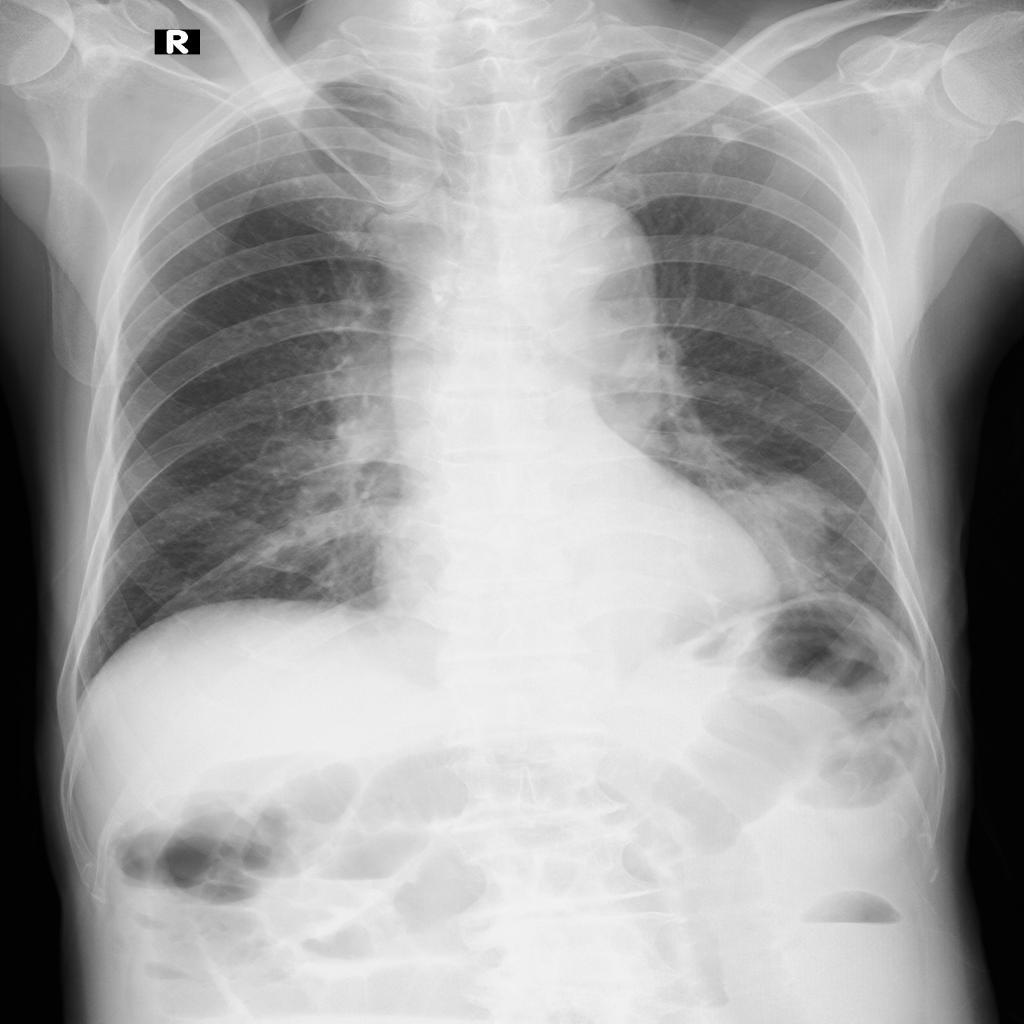Nodule: (717, 479, 836, 596)
